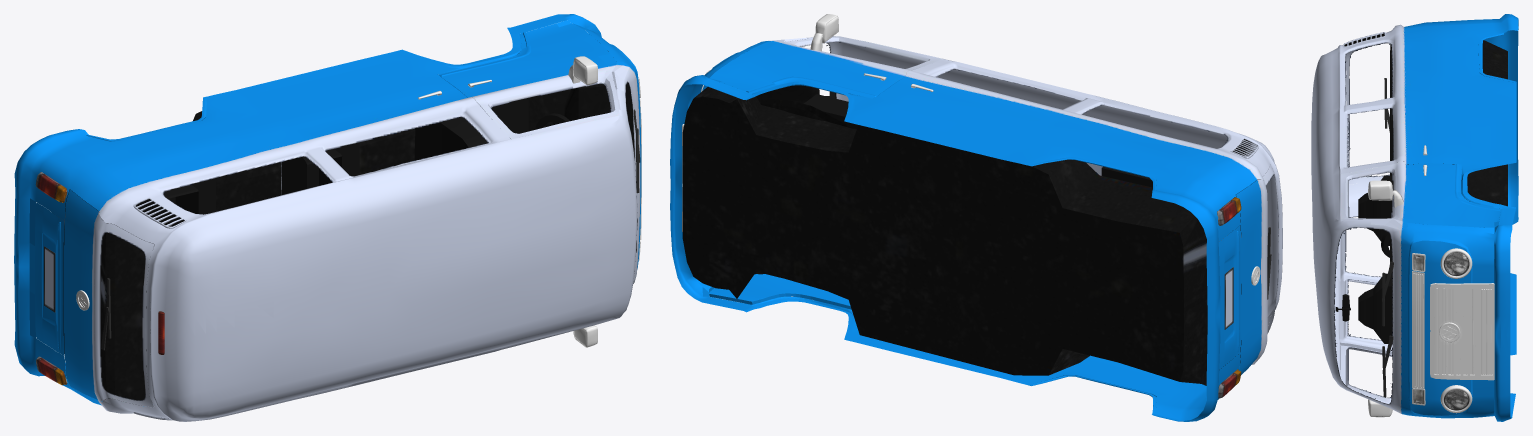
The model's file is van_chassis.obj.
3 renders of one model, left to right at view 1: azimuth 30°, elevation 25°; view 2: azimuth 150°, elevation 25°; view 3: azimuth 270°, elevation 25°, orthographic. The views are drawn at different scales.
Visible parts, largest first — view 1: Volks_Van_Chassis_0416; view 2: Volks_Van_Chassis_0416; view 3: Volks_Van_Chassis_0416.
Boxes of the visible parts, x1=… form: Volks_Van_Chassis_0416: x1=14, y1=14, x2=641, y2=421; Volks_Van_Chassis_0416: x1=670, y1=14, x2=1282, y2=421; Volks_Van_Chassis_0416: x1=1311, y1=14, x2=1518, y2=421.
Size of the model in its own units: 4.8 by 2.22 by 1.79.
2 materials, 2 textured.
